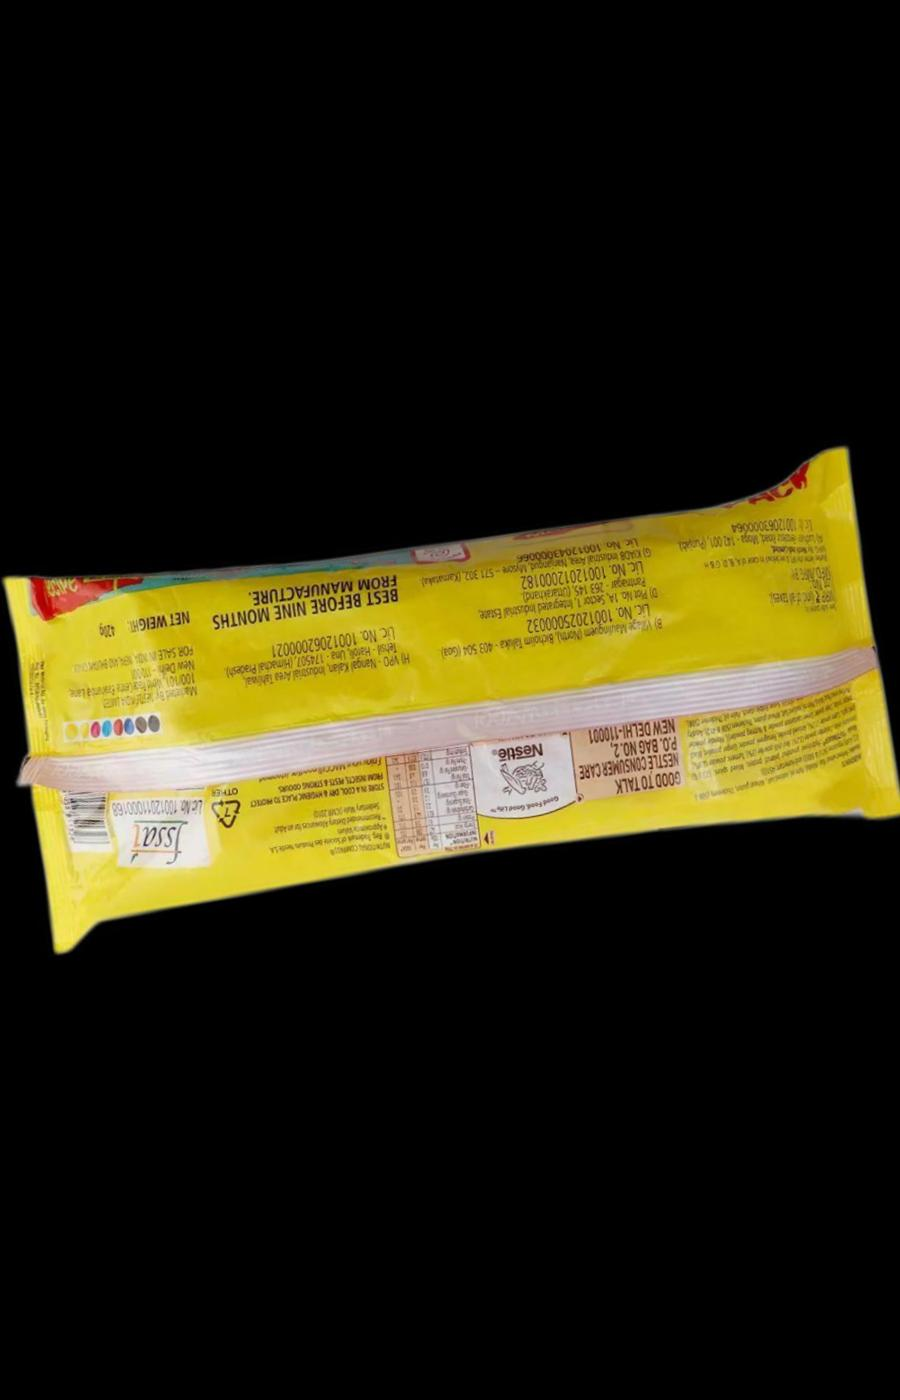Maggi 2-Minute Masala Instant Noodles 420 g: (0, 429, 900, 962)
